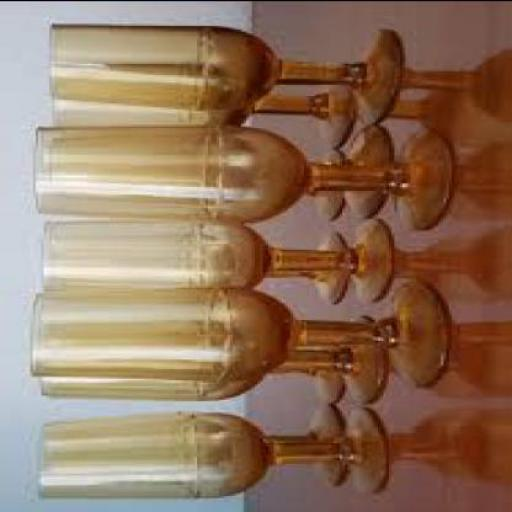glass: (33, 278, 446, 385), (30, 124, 452, 227), (44, 21, 399, 123), (36, 314, 380, 406), (39, 404, 386, 494), (38, 218, 392, 304), (47, 82, 353, 146), (304, 121, 391, 216), (260, 402, 346, 482), (264, 230, 342, 304), (269, 362, 348, 400), (304, 146, 342, 216)
